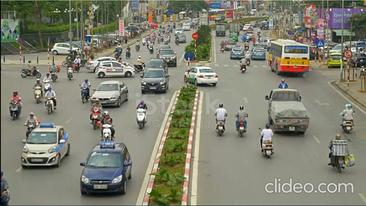bus: (266, 35, 317, 80)
car: (74, 138, 137, 203), (17, 119, 73, 176), (89, 81, 130, 110), (135, 67, 174, 96), (184, 64, 222, 89), (95, 59, 136, 81), (157, 48, 181, 68), (144, 55, 167, 73)
motorcycle: (328, 138, 352, 179), (256, 125, 280, 164), (337, 108, 358, 140), (38, 91, 62, 117), (229, 111, 250, 140), (96, 121, 118, 147), (132, 105, 150, 132), (213, 111, 227, 140), (20, 65, 44, 79), (25, 116, 36, 146), (90, 104, 102, 131), (8, 96, 20, 121), (77, 82, 90, 104), (32, 83, 42, 105), (42, 78, 55, 93), (238, 59, 249, 76), (49, 65, 59, 82), (66, 64, 74, 78)
truck: (265, 79, 314, 134)
